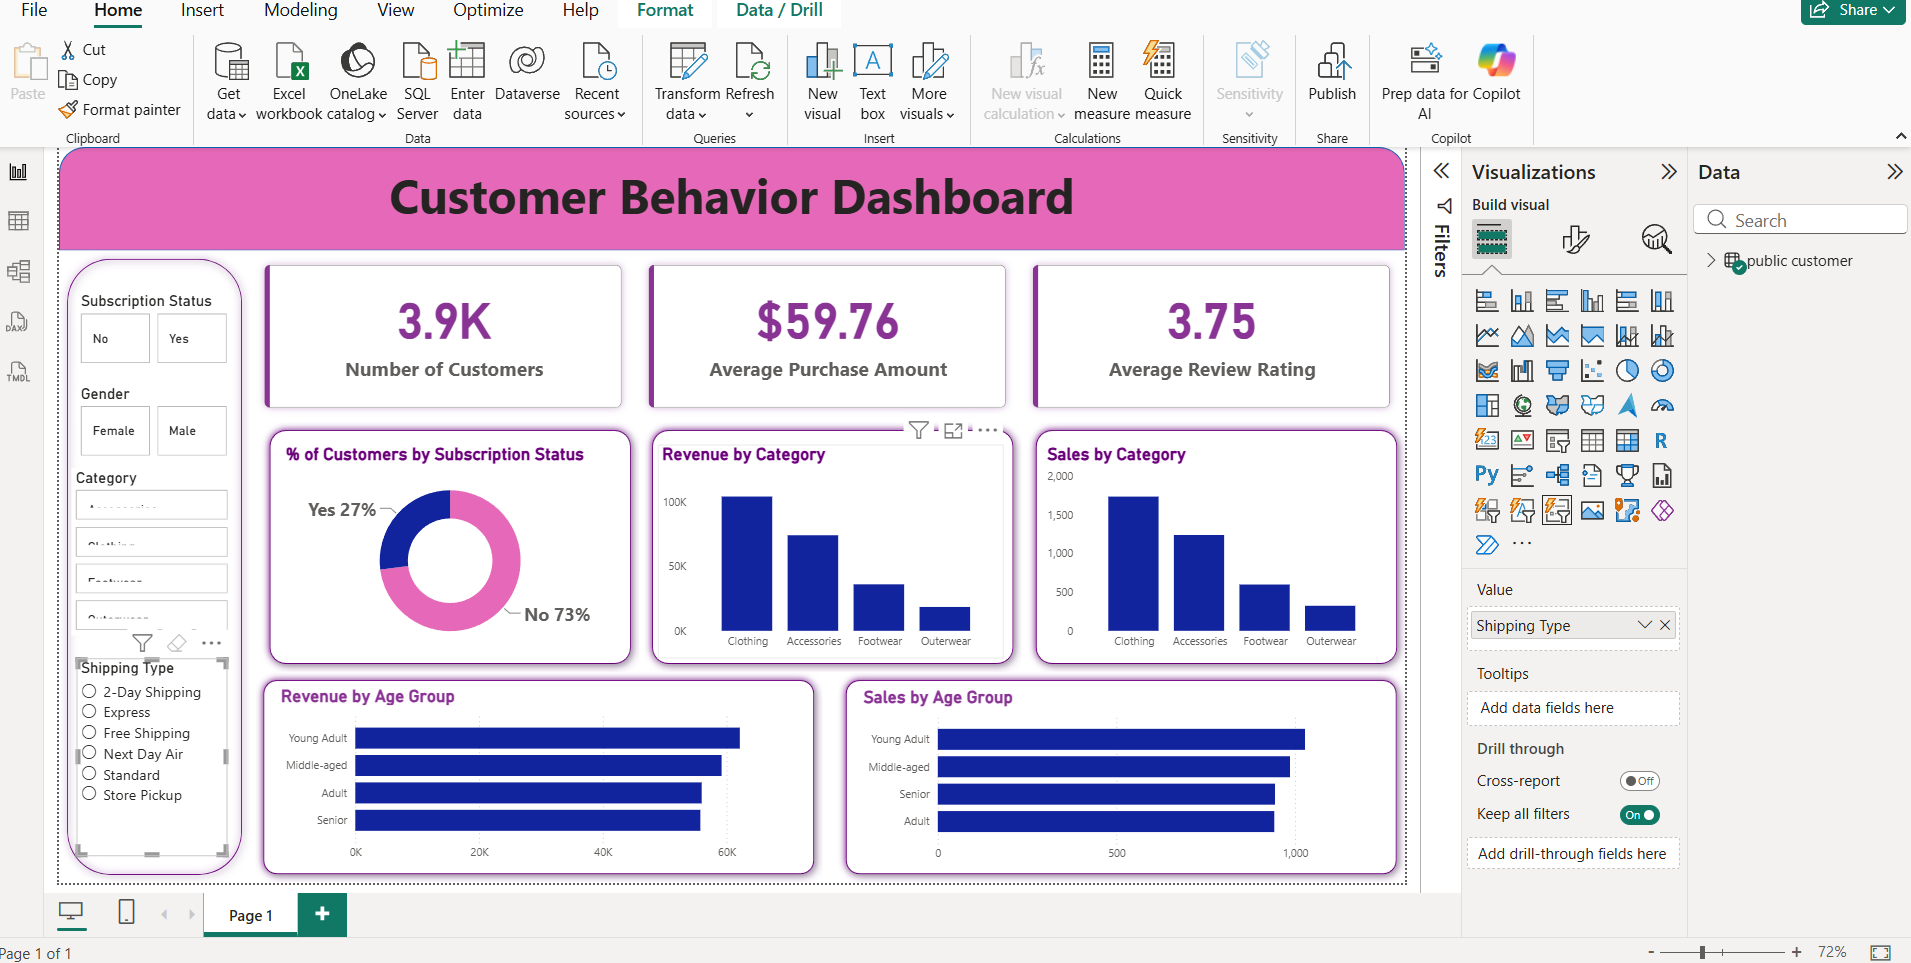

Layout of this report page (visuals, bound fields, positions):
{"tool":"powerbi","page":{"name":"Page 1","canvas":[1500,820],"ordinal":0},"visuals":[{"type":"cardVisual","fields":{"Data":["public customer.Number of Customers","public customer.Average Purchase Amount","public customer.Average Review Rating"]},"box":[212.9,115.3,1286.5,191.6],"z":2000},{"type":"shape","box":[218.3,585.6,631.7,234.2],"z":2500,"group":"g1"},{"type":"shape","box":[0,0,1499.4,115.3],"z":3000},{"type":"textbox","box":[0,12.4,1499.4,102.9],"z":4000},{"type":"shape","box":[225.4,307,420.5,278.6],"z":5000},{"type":"donutChart","title":"% of Customers by Subscription Status","fields":{"Category":["public customer.subscription_status"],"Y":["CountNonNull(public customer.customer_id)"]},"box":[248.4,331.8,376.2,237.8],"z":6000},{"type":"shape","box":[1078.9,307,420.5,278.6],"z":7000},{"type":"shape","box":[652.1,307,420.5,278.6],"z":8000},{"type":"clusteredColumnChart","title":"Revenue by Category","fields":{"Y":["Sum(public customer.purchase_amount)"],"Category":["public customer.category"]},"box":[667.2,331.8,385.1,237.8],"z":9000},{"type":"clusteredColumnChart","title":"Sales by Category","fields":{"Y":["CountNonNull(public customer.customer_id)"],"Category":["public customer.category"]},"box":[1096.6,331.8,385.1,237.8],"z":10000},{"type":"shape","box":[0,115.3,212.9,704.5],"z":11000},{"type":"advancedSlicerVisual","fields":{"Values":["public customer.subscription_status"]},"box":[19.5,161.5,173.9,85.2],"z":12000},{"type":"advancedSlicerVisual","fields":{"Values":["public customer.gender"]},"box":[19.5,264.4,173.9,85.2],"z":13000},{"type":"advancedSlicerVisual","fields":{"Values":["public customer.category"]},"box":[14.2,358.4,179.2,186.3],"z":14000},{"type":"listSlicer","fields":{"Values":["public customer.shipping_type"]},"box":[19.5,569.6,168.6,220],"z":15000},{"type":"shape","box":[867.7,585.6,631.7,234.2],"z":16000},{"type":"clusteredBarChart","title":"Sales by Age Group","fields":{"Y":["CountNonNull(public customer.customer_id)"],"Category":["public customer.age_group"]},"box":[890.8,601.5,585.6,204.1],"z":17000},{"type":"clusteredBarChart","title":"Revenue by Age Group","fields":{"Y":["Sum(public customer.purchase_amount)"],"Category":["public customer.age_group"]},"box":[241.4,601.6,585.6,204.1],"z":17500,"group":"g1"},{"type":"group","id":"g1","title":"Group 1","box":[218.3,585.6,631.7,234.2],"z":17501}]}

Visuals, with their boxes on the page's 1500x820 design canvas (x1, y1, x2, y2). These are canvas units, not pixel positions in the 1911x963 screenshot, which may show the page scaled, cropped or inside an application window:
cardVisual - public customer.Number of Customers x public customer.Average Purchase Amount: (left=213, top=115, right=1499, bottom=307)
shape: (left=218, top=586, right=850, bottom=820)
shape: (left=0, top=0, right=1499, bottom=115)
textbox: (left=0, top=12, right=1499, bottom=115)
shape: (left=225, top=307, right=646, bottom=586)
"% of Customers by Subscription Status" donutChart: (left=248, top=332, right=625, bottom=570)
shape: (left=1079, top=307, right=1499, bottom=586)
shape: (left=652, top=307, right=1073, bottom=586)
"Revenue by Category" clusteredColumnChart: (left=667, top=332, right=1052, bottom=570)
"Sales by Category" clusteredColumnChart: (left=1097, top=332, right=1482, bottom=570)
shape: (left=0, top=115, right=213, bottom=820)
advancedSlicerVisual - public customer.subscription_status: (left=20, top=162, right=193, bottom=247)
advancedSlicerVisual - public customer.gender: (left=20, top=264, right=193, bottom=350)
advancedSlicerVisual - public customer.category: (left=14, top=358, right=193, bottom=545)
listSlicer - public customer.shipping_type: (left=20, top=570, right=188, bottom=790)
shape: (left=868, top=586, right=1499, bottom=820)
"Sales by Age Group" clusteredBarChart: (left=891, top=602, right=1476, bottom=806)
"Revenue by Age Group" clusteredBarChart: (left=241, top=602, right=827, bottom=806)
"Group 1" group: (left=218, top=586, right=850, bottom=820)
